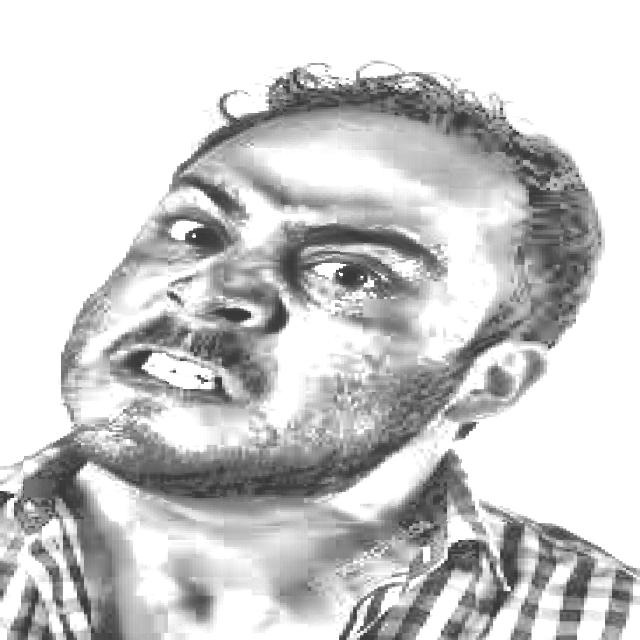angry: (25, 58, 597, 521)
